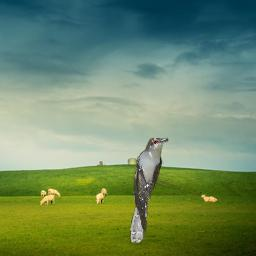Cuckoo: (129, 136, 169, 243)
